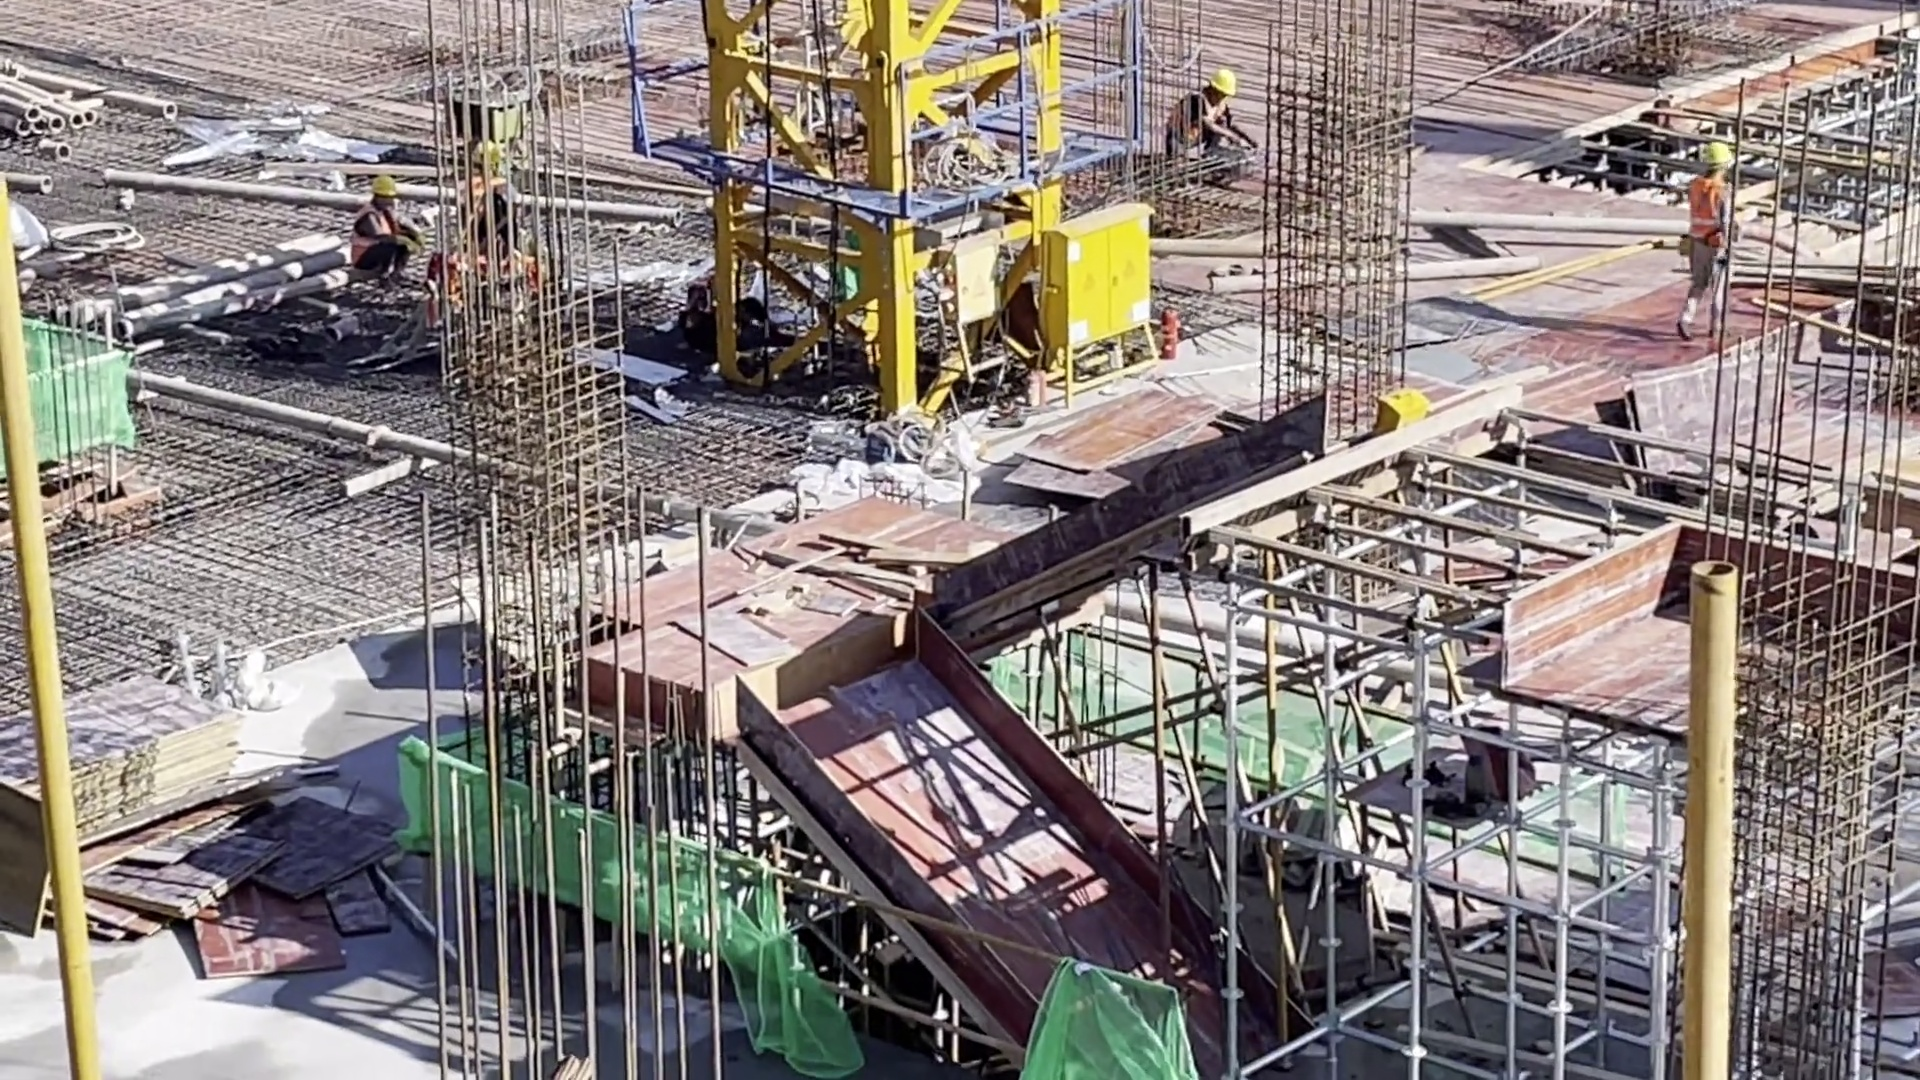helmet: (1701, 138, 1735, 175), (1207, 67, 1241, 101), (366, 171, 406, 199)
person: (1667, 135, 1740, 334), (331, 174, 416, 290), (1156, 68, 1252, 165)
vest: (1167, 95, 1232, 156), (1678, 179, 1726, 255), (349, 215, 391, 281)
